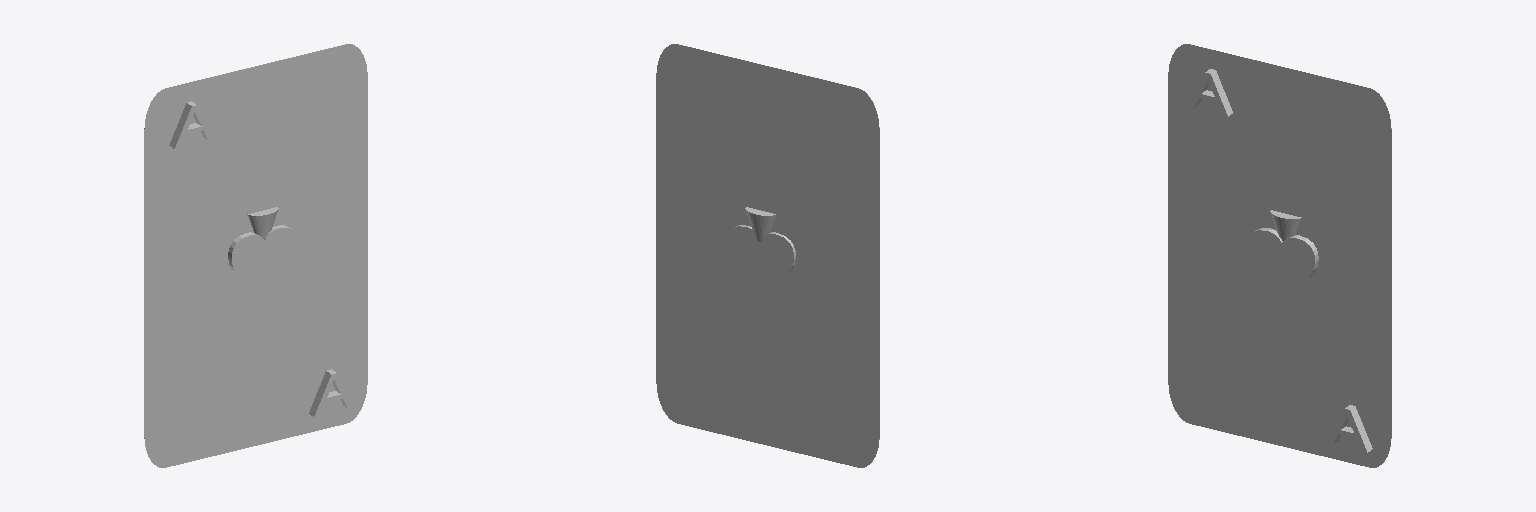
File: ace_spades.obj
The picture shows the model from 3 angles: view 1: azimuth 30°, elevation 25°; view 2: azimuth 150°, elevation 25°; view 3: azimuth 330°, elevation 25°; orthographic projection.
Visible parts, largest first — view 1: obj_0; view 2: obj_0; view 3: obj_0.
Boxes of the visible parts, <box> form: obj_0: <box>144,44,367,467</box>; obj_0: <box>656,44,879,467</box>; obj_0: <box>1168,44,1391,467</box>.
Bounding box in the file's own units: 24 × 39 × 2.